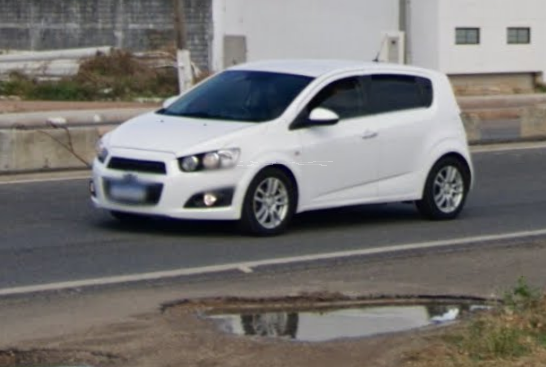car: (86, 32, 478, 237)
